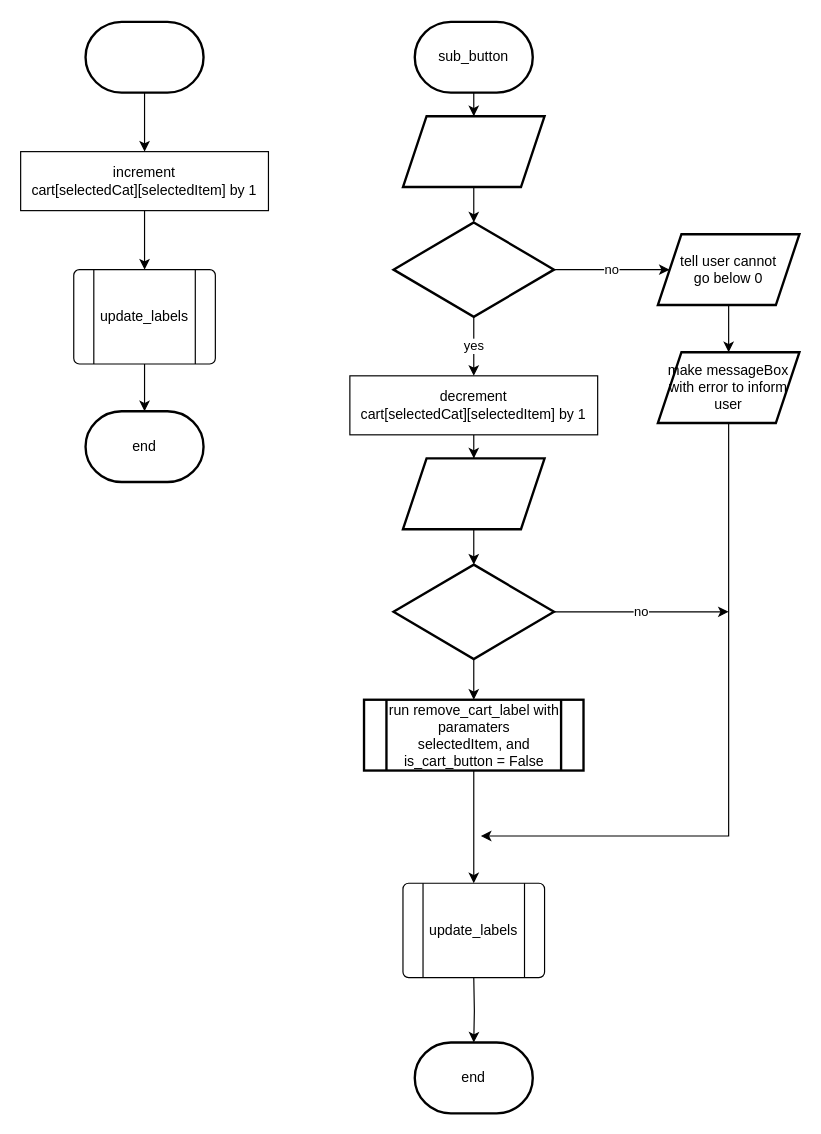
The diagram is 821 pixels wide and 1134 high, and some of its shapes have lost their labels. Here are the shapes that lost their labels. From the top down, the centre of each, then its label:
At (x=144, y=56): "plus_button".
At (x=473, y=151): "get value stored in cart at selectedItem".
At (x=473, y=269): "if value more than or equal to one".
At (x=473, y=493): "get new value stored in cart at selectedItem".
At (x=473, y=611): "if value is now 0".
